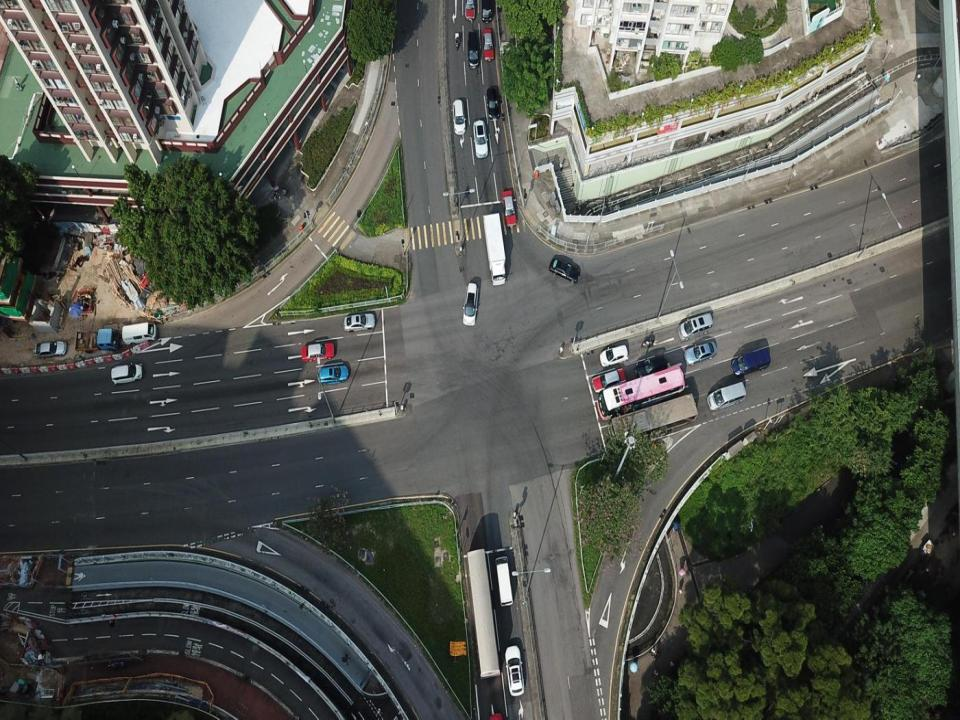bus: (597, 364, 685, 422), (608, 393, 698, 446), (466, 548, 501, 680), (494, 556, 513, 606), (122, 321, 158, 345)
car: (74, 328, 120, 354), (505, 644, 525, 697), (678, 312, 713, 341), (591, 367, 627, 394), (683, 341, 717, 366), (634, 354, 668, 378), (548, 259, 580, 284), (110, 362, 144, 384), (301, 341, 335, 363), (462, 282, 479, 326), (599, 344, 629, 368), (500, 189, 518, 228), (33, 339, 67, 359), (472, 119, 489, 158), (343, 312, 376, 332), (318, 365, 349, 384), (452, 99, 466, 135), (486, 87, 501, 120), (468, 31, 480, 69), (482, 28, 495, 62), (480, 0, 494, 23), (464, 0, 477, 21)
truck: (482, 213, 506, 286)
van: (706, 381, 747, 411), (731, 348, 771, 376)
